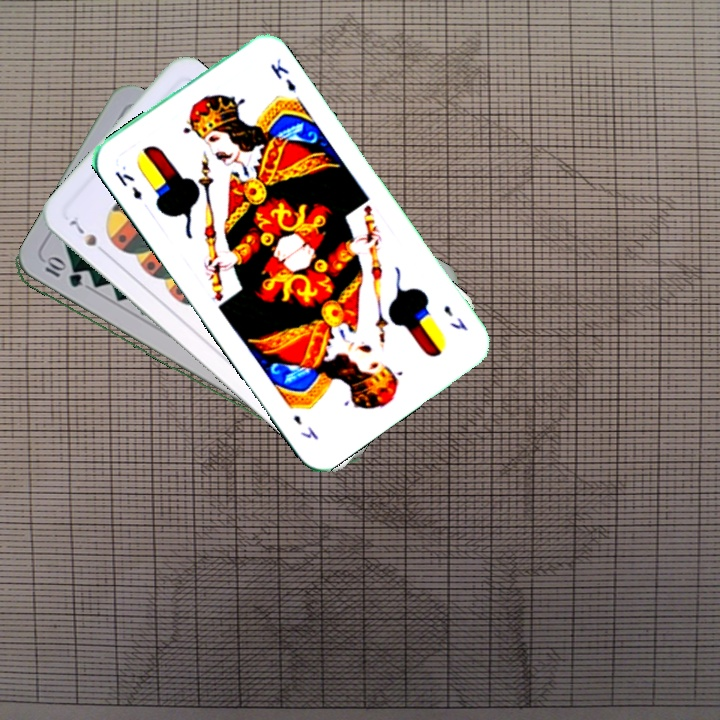EK: (110, 167, 145, 203), (439, 301, 470, 334)
G10: (41, 256, 85, 290)
S7: (65, 215, 111, 259)
